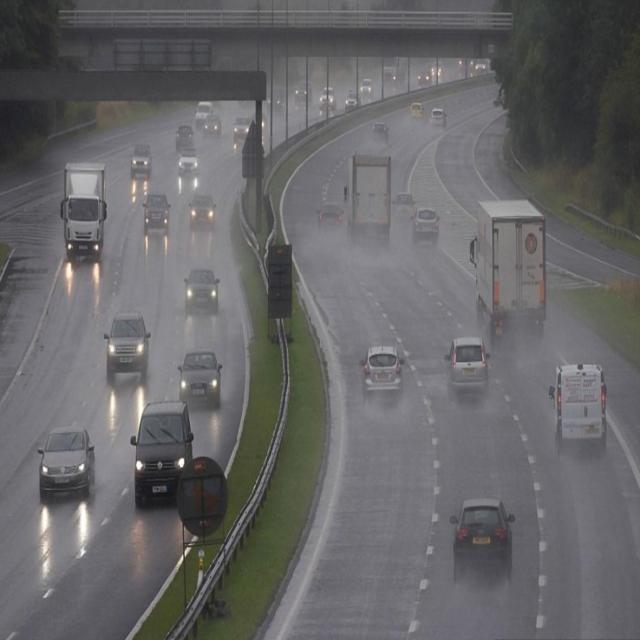Car: (130, 397, 194, 505), (449, 495, 515, 580), (551, 361, 607, 452), (34, 429, 98, 499), (104, 311, 150, 380), (178, 350, 223, 410), (446, 336, 490, 397), (360, 343, 405, 400), (183, 267, 220, 314), (142, 192, 172, 233), (188, 191, 217, 229), (412, 206, 441, 243), (130, 144, 152, 178), (391, 192, 417, 220), (317, 202, 345, 228), (233, 116, 255, 147), (177, 150, 200, 179), (175, 126, 195, 153), (318, 86, 335, 114), (203, 113, 222, 138), (194, 101, 213, 126), (371, 121, 390, 145), (270, 87, 285, 112), (294, 85, 308, 108), (344, 90, 358, 112), (431, 107, 446, 126), (360, 77, 373, 96), (410, 102, 424, 119), (417, 68, 431, 85)
Truck: (471, 192, 548, 338), (57, 158, 110, 278), (346, 141, 396, 250)
